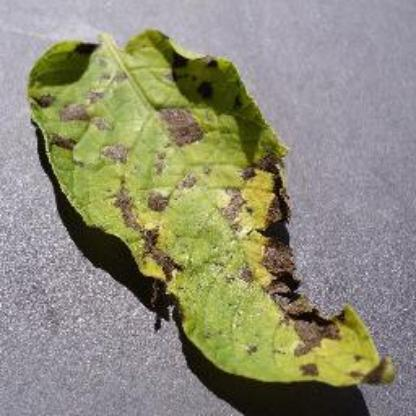Early-Blight: (27, 30, 396, 388)
